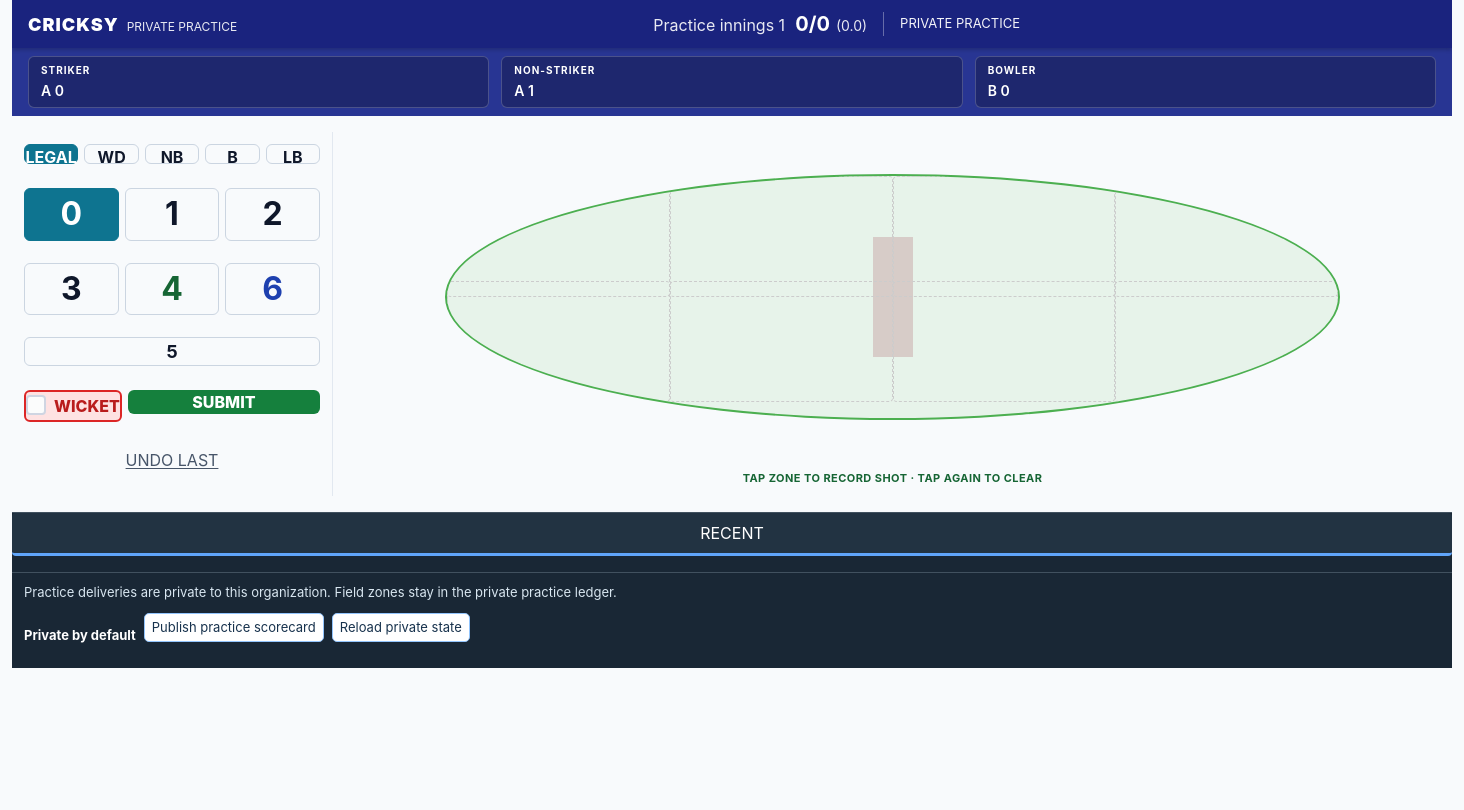
it: PracticeMatchView › keeps practice private by default and gives an authorized coach an explicit publication toggle
Click the button with test id "publish-practice".
click(234, 627)  # box 144,612 -> 324,642
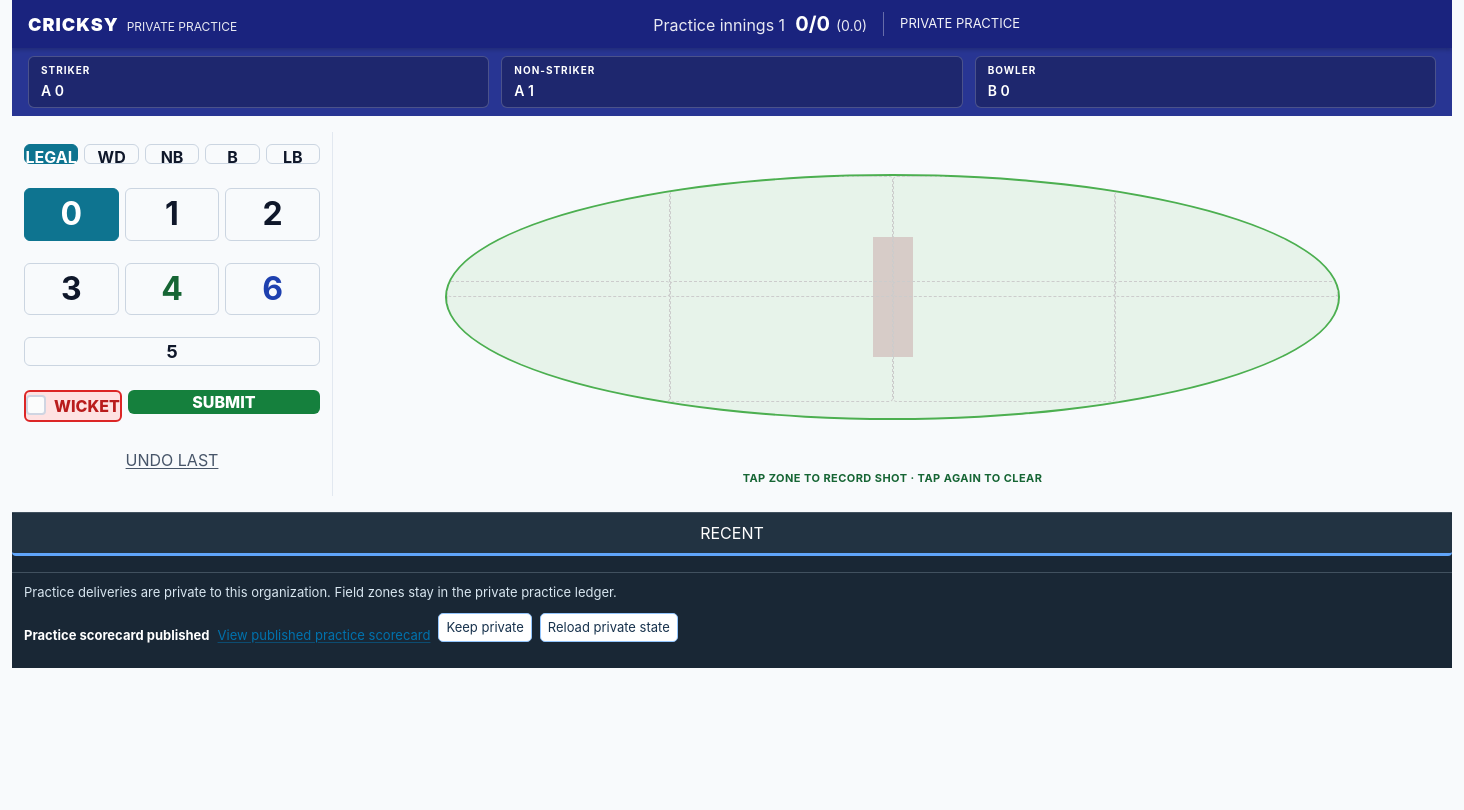
Expected: the button with test id "unpublish-practice" is shown, 438,612 -> 532,642
